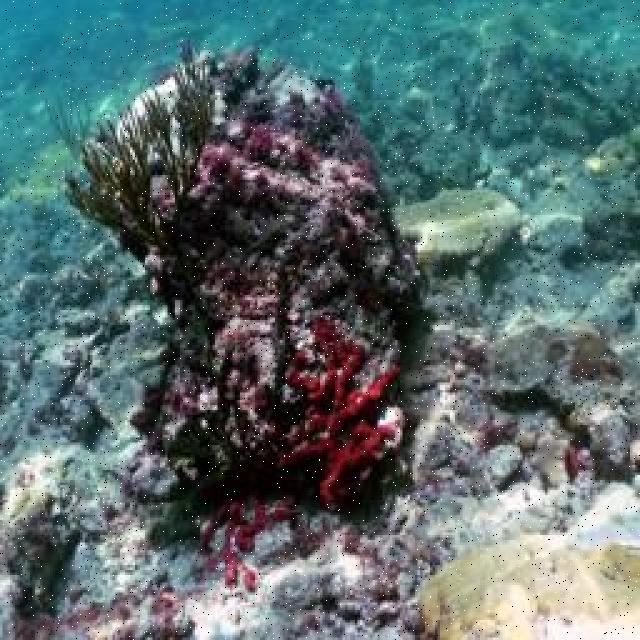reefs: (114, 41, 440, 592), (64, 68, 213, 250), (420, 536, 638, 638)
